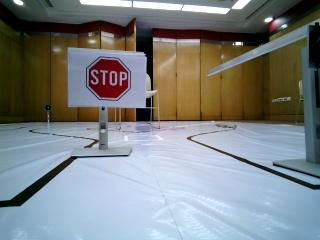stop: (74, 53, 144, 103)
